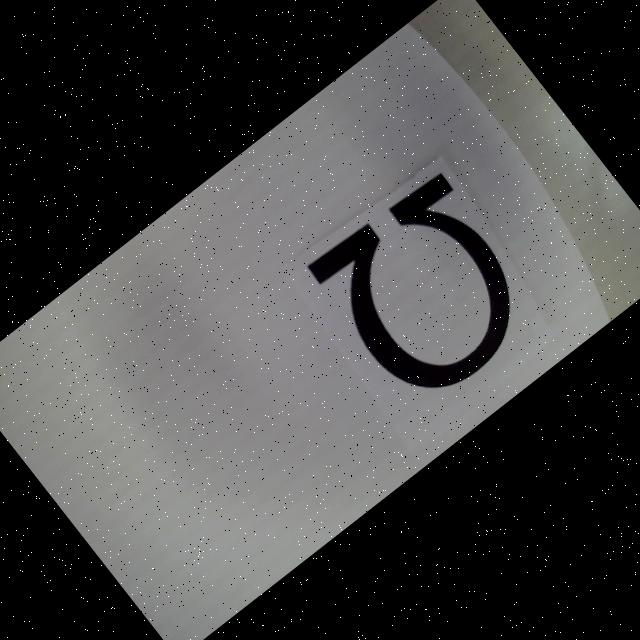OMEGA: (303, 162, 551, 414)
